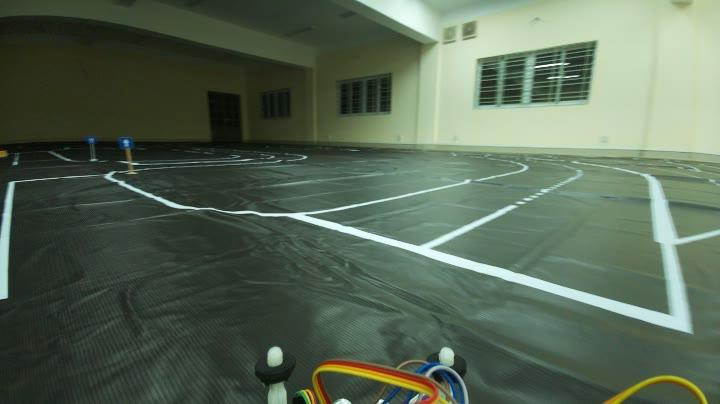onewayroad: (120, 133, 136, 151), (87, 136, 96, 144)
